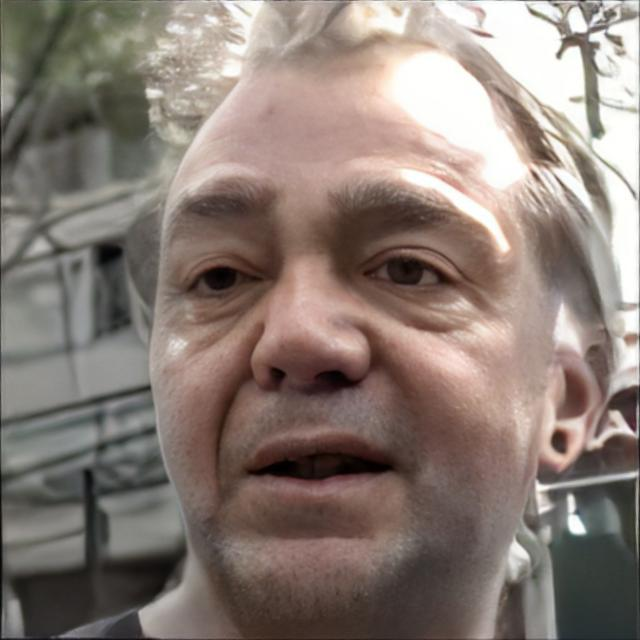sad: (147, 48, 550, 628)
